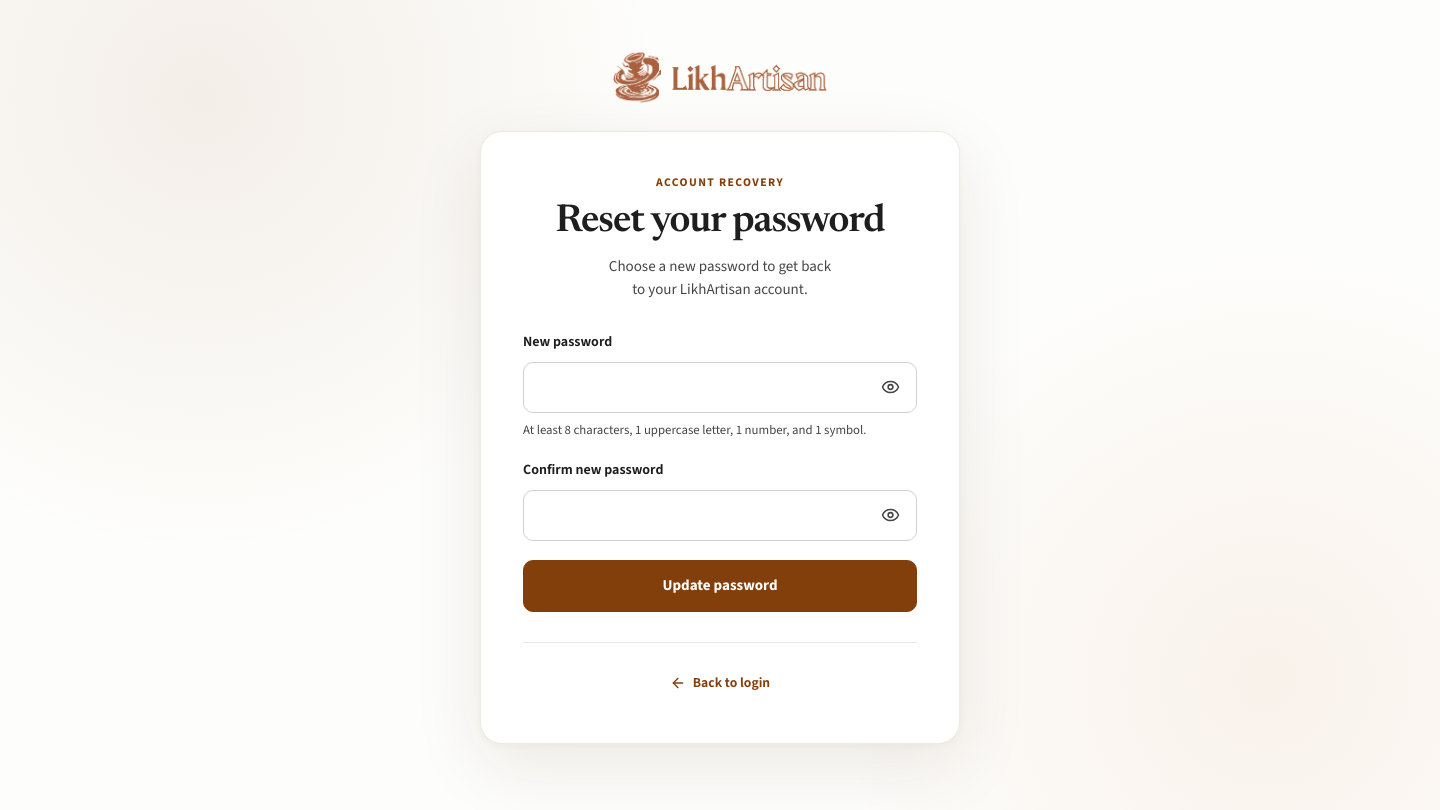
Scenario: reset password page › shows a mismatch error without sending a password update
The width and height of the screenshot is (1440, 810).
Type "New-password1!" into the password field labelled "New password" at (720, 387), box x1=523 y1=362 x2=917 y2=413
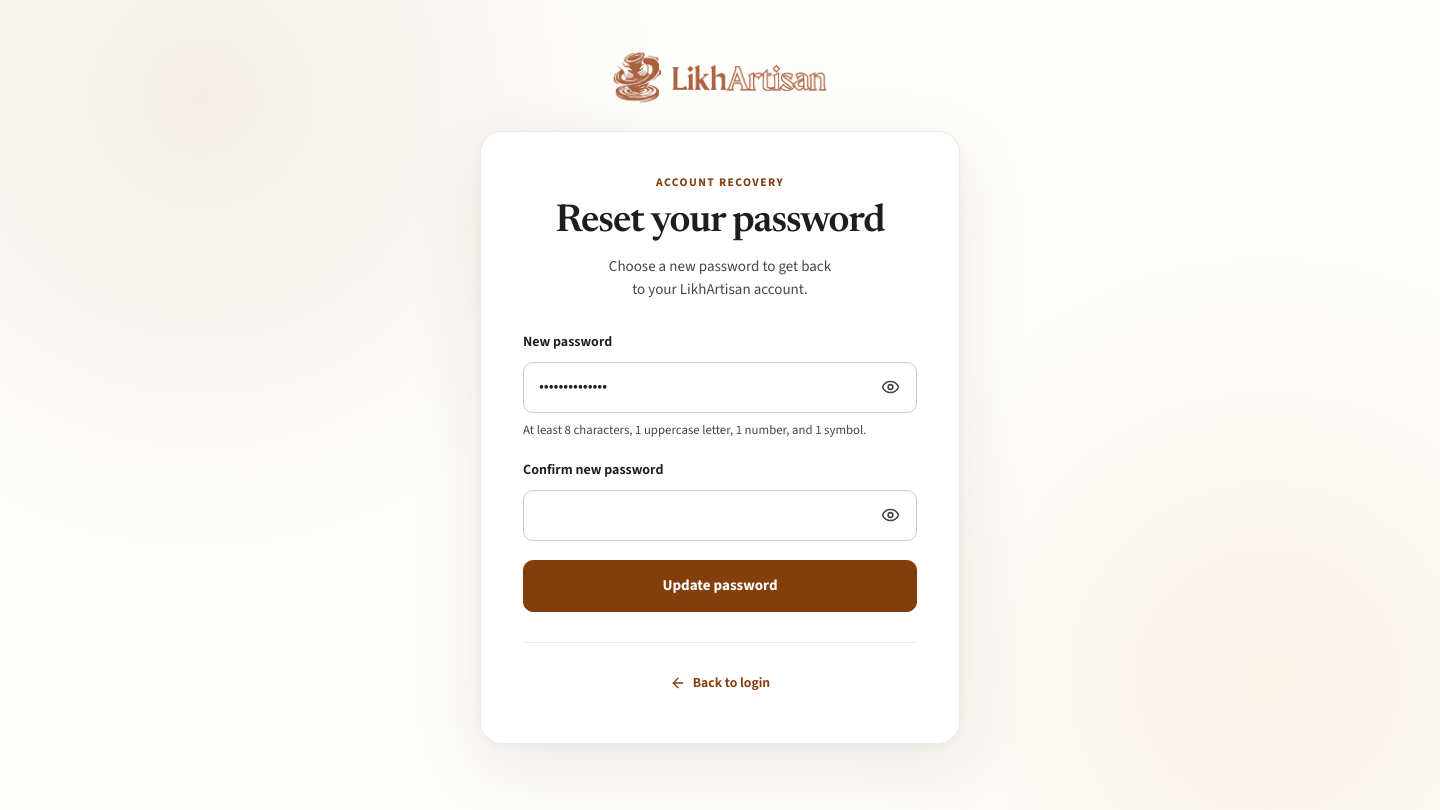
Type "Other-password1!" into the password field labelled "Confirm new password" at (720, 515), box x1=523 y1=490 x2=917 y2=541
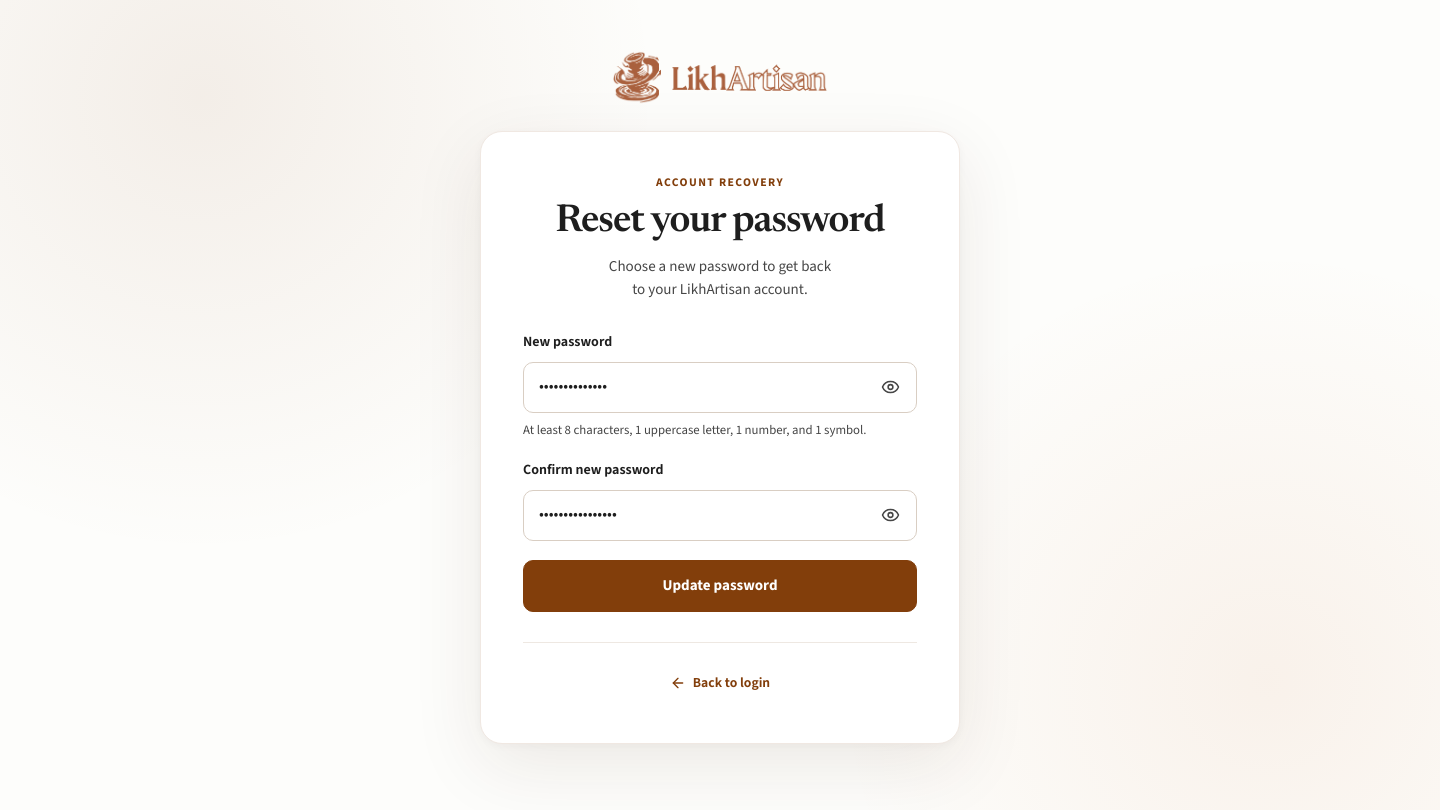
Click the button "Update password" at (720, 586), box x1=523 y1=560 x2=917 y2=612
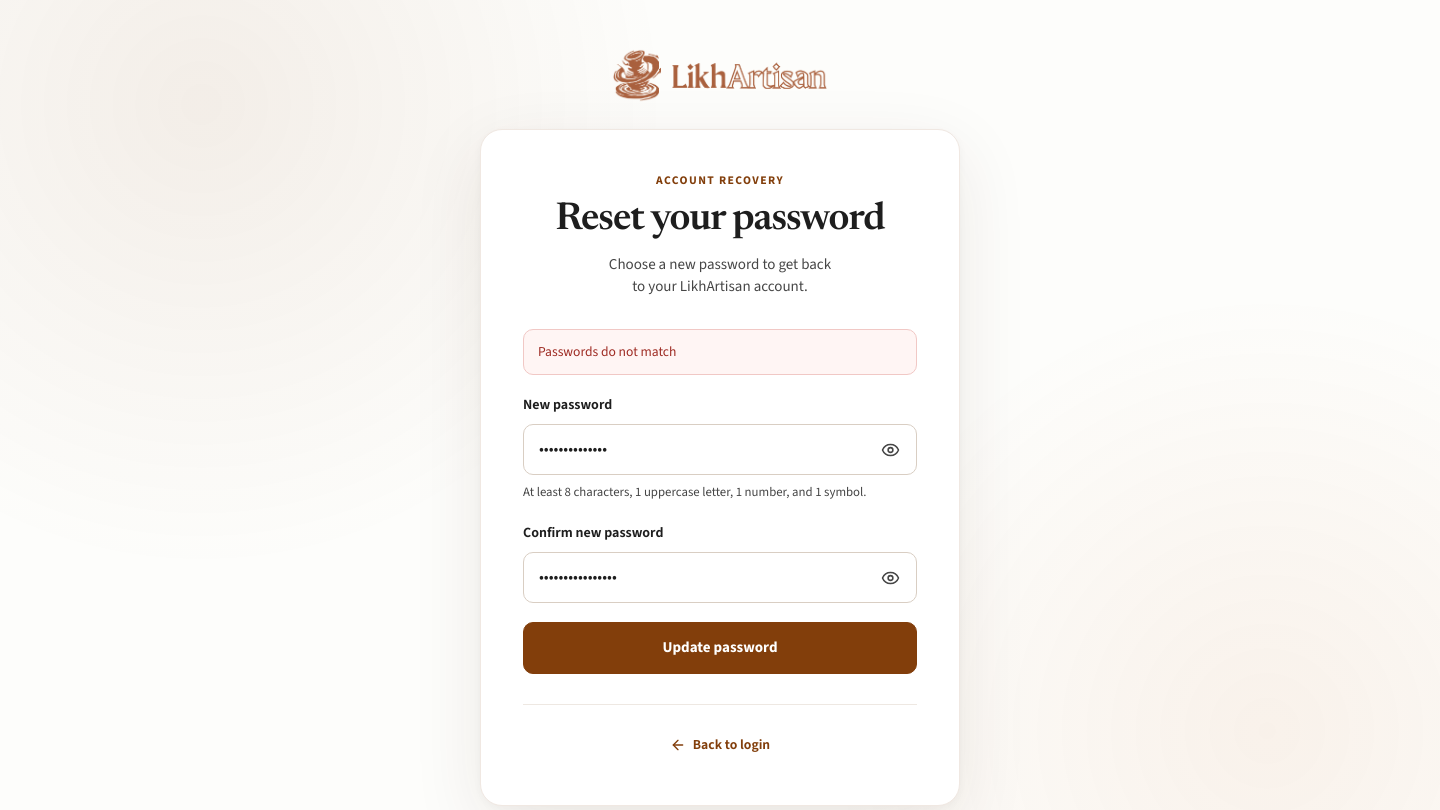
Check: the message reads "Passwords do not match", box x1=538 y1=342 x2=676 y2=361
